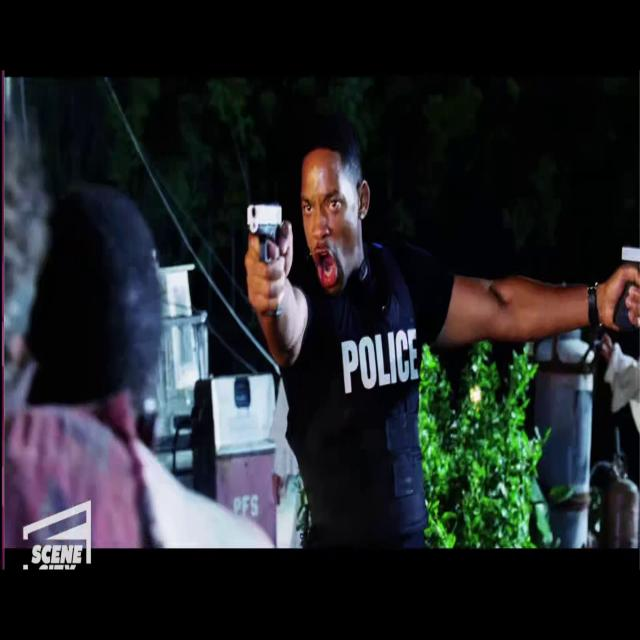weapons: (237, 187, 291, 320)
